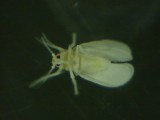whitefly: (31, 32, 134, 96)
